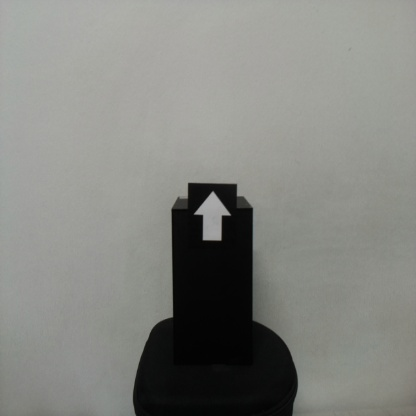id_1: (188, 183, 238, 251)
